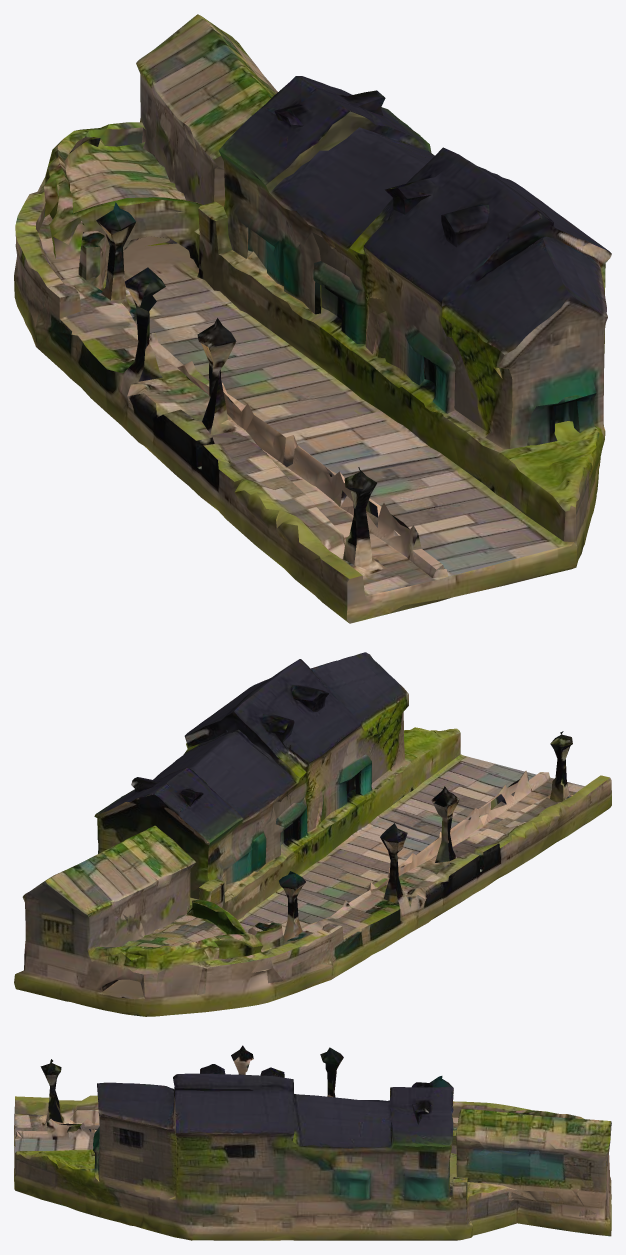
File: otaru-canal.glb
The picture shows the model from 3 angles, top to bottom: view 1: azimuth 30°, elevation 25°; view 2: azimuth 150°, elevation 25°; view 3: azimuth 270°, elevation 25°; orthographic projection. The views are drawn at different scales.
Parts seen in each view (by area): view 1: logan-textured.obj; view 2: logan-textured.obj; view 3: logan-textured.obj.
Boxes of the visible parts, x1,y1,x2,y2 form: logan-textured.obj: (14,14,611,623); logan-textured.obj: (14,652,611,1016); logan-textured.obj: (14,1045,611,1240).
Size of the model in its own units: 0.4737 by 0.2678 by 1.
1 material, 1 textured.
